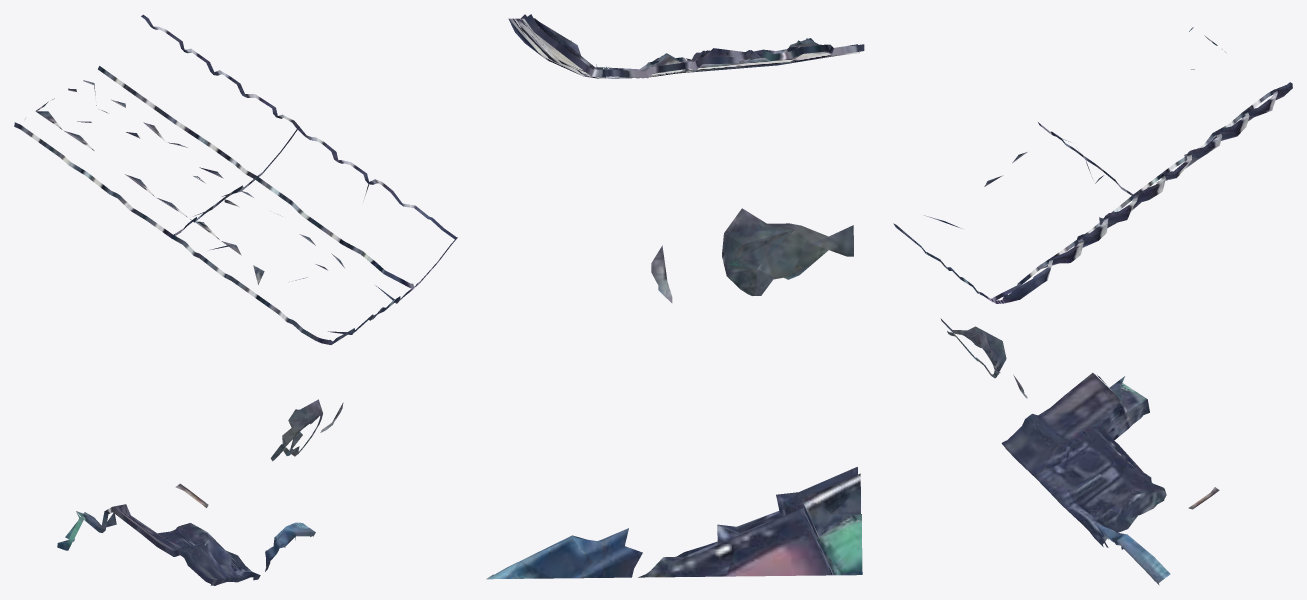
3 renders of one model, left to right at view 1: azimuth 30°, elevation 25°; view 2: azimuth 150°, elevation 25°; view 3: azimuth 270°, elevation 25°, orthographic. The views are drawn at different scales.
Size of the model in its own units: 37.48 by 50.6 by 39.82.
Materials: 1 (1 with a texture image).
